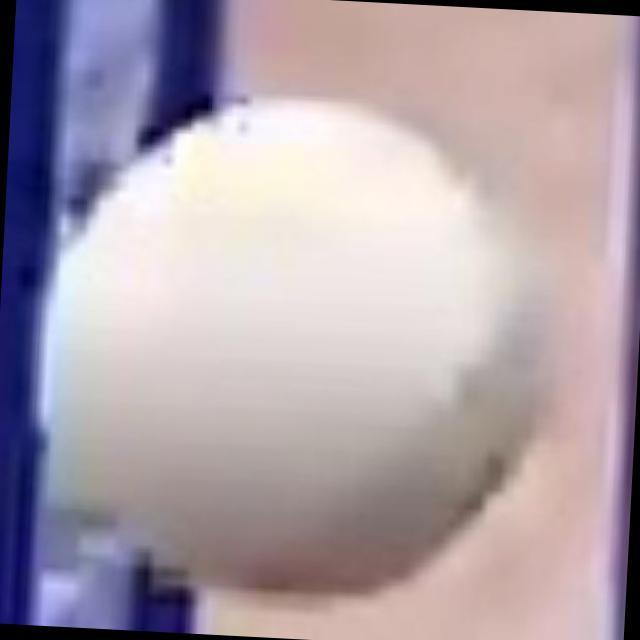-: (79, 88, 560, 607)
